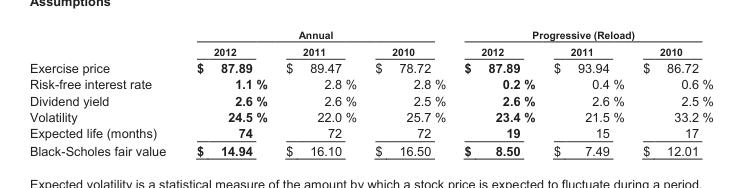table: (28, 28, 712, 157)
table column: (28, 28, 180, 157), (180, 28, 276, 157), (276, 28, 365, 157), (365, 28, 454, 157), (454, 28, 543, 157), (543, 28, 632, 157), (632, 28, 712, 157)
table column header: (28, 28, 712, 58)
table row: (28, 58, 712, 75), (28, 75, 712, 92), (28, 124, 712, 141), (28, 42, 712, 58), (28, 92, 712, 108), (28, 108, 712, 124), (28, 141, 712, 157), (28, 28, 712, 42)
table spanning cell: (180, 28, 454, 42), (454, 28, 712, 42)
